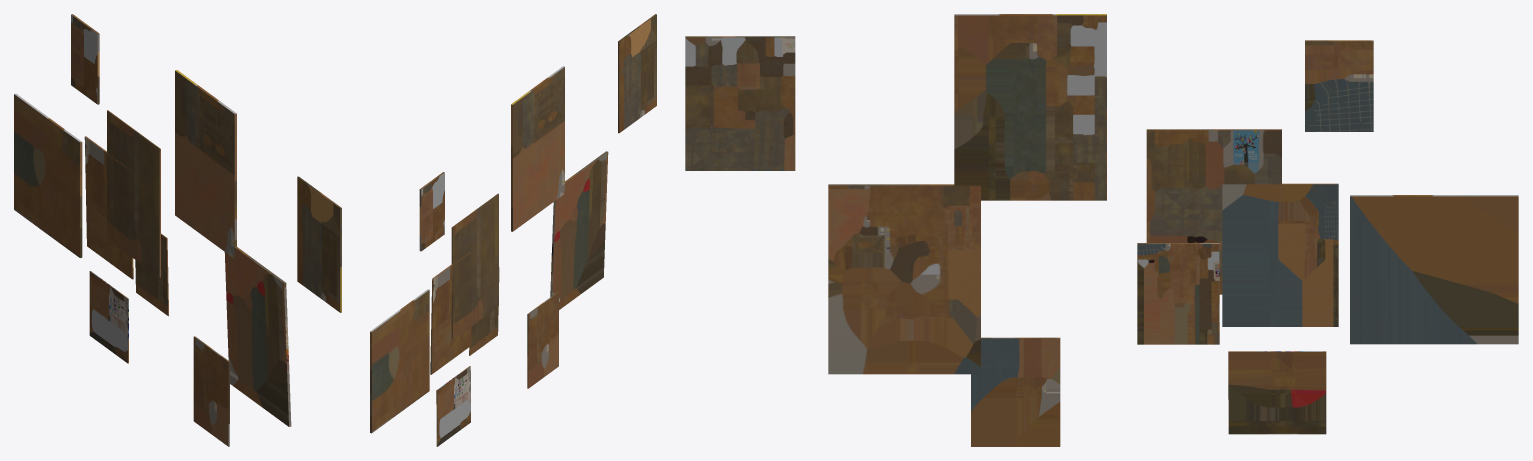
Rendered from bihua.fbx.
The picture shows the model from 3 angles, left to right: view 1: azimuth 30°, elevation 25°; view 2: azimuth 150°, elevation 25°; view 3: azimuth 270°, elevation 25°; orthographic projection. The views are drawn at different scales.
Parts seen in each view (by area): view 1: ___pCube72, ___pCube73, ___pCube85, ___pCube79, ___pCube82, ___pCube78, ___pCube77, ___pCube81, ___pCube84, ___pCube80; view 2: ___pCube72, ___pCube73, ___pCube85, ___pCube79, ___pCube82, ___pCube77, ___pCube78, ___pCube81, ___pCube84, ___pCube80; view 3: ___pCube73, ___pCube72, ___pCube85, ___pCube77, ___pCube82, ___pCube79, ___pCube78, ___pCube80, ___pCube81, ___pCube84.
Boxes of the visible parts, <box> form: ___pCube72: <box>175,70,236,258</box>; ___pCube73: <box>224,246,291,426</box>; ___pCube85: <box>14,93,82,257</box>; ___pCube79: <box>107,110,160,277</box>; ___pCube82: <box>297,176,341,312</box>; ___pCube78: <box>193,336,229,446</box>; ___pCube77: <box>84,136,133,279</box>; ___pCube81: <box>89,271,128,363</box>; ___pCube84: <box>71,14,99,104</box>; ___pCube80: <box>135,233,168,316</box>; ___pCube72: <box>511,66,564,231</box>; ___pCube73: <box>550,151,608,309</box>; ___pCube85: <box>370,289,429,433</box>; ___pCube79: <box>451,193,498,339</box>; ___pCube82: <box>618,14,656,133</box>; ___pCube77: <box>430,250,472,374</box>; ___pCube78: <box>527,292,558,388</box>; ___pCube81: <box>436,366,470,446</box>; ___pCube84: <box>419,172,444,251</box>; ___pCube80: <box>469,267,499,355</box>; ___pCube73: <box>828,184,980,374</box>; ___pCube72: <box>954,14,1106,200</box>; ___pCube85: <box>1350,195,1518,344</box>; ___pCube77: <box>1222,183,1338,326</box>; ___pCube82: <box>685,36,795,170</box>; ___pCube79: <box>1146,129,1281,294</box>; ___pCube78: <box>971,337,1060,446</box>; ___pCube80: <box>1137,243,1219,344</box>; ___pCube81: <box>1228,351,1326,434</box>; ___pCube84: <box>1305,40,1373,131</box>.
Bounding box in the file's own units: 11.19 × 491 × 859.
